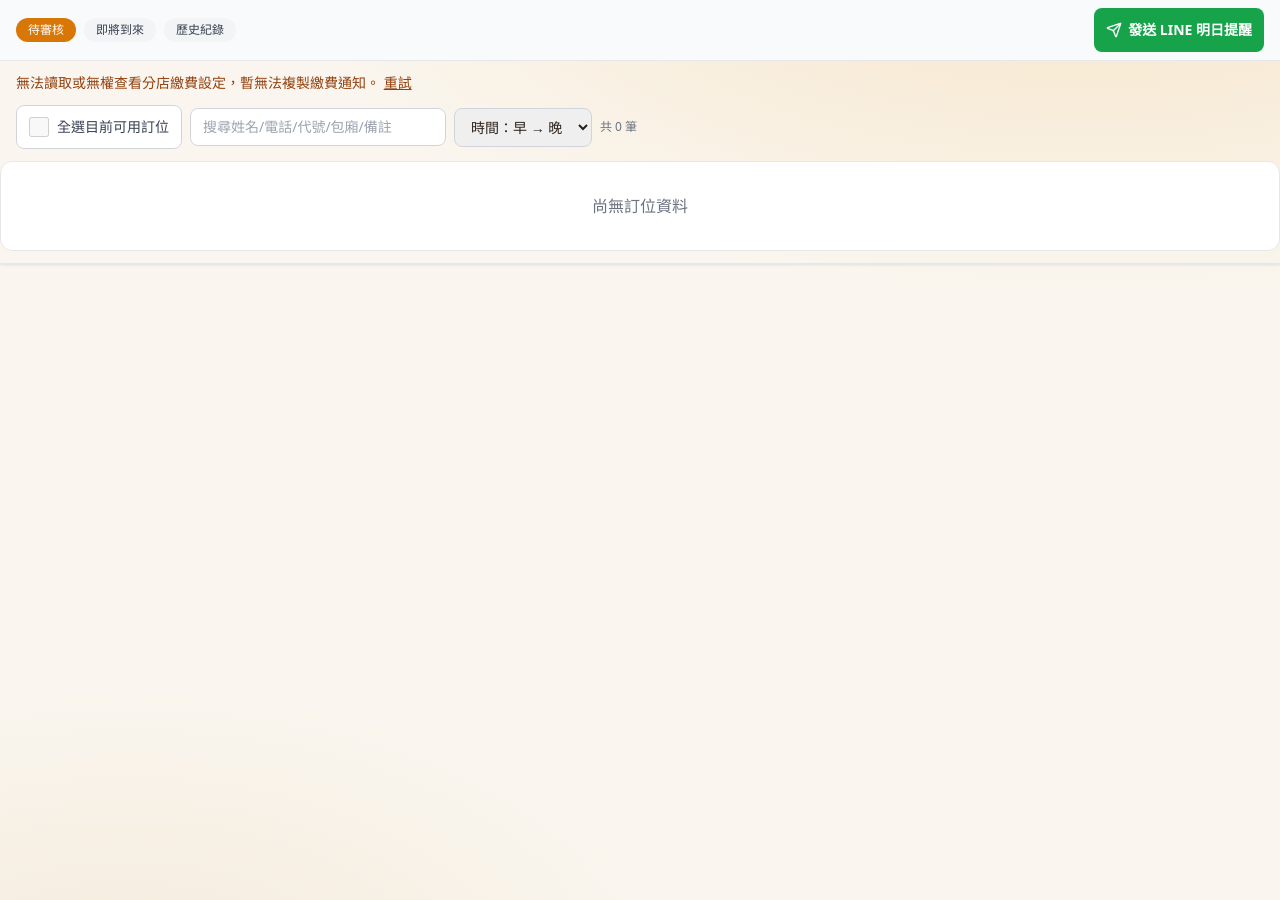
Test: ReservationList history restore (一鍵還原) › offers restore for cancelled and no_show bookings, not completed ones, and labels auto-cancellations
The image size is (1280, 900).
Click the button "歷史紀錄": (200,30) top-left (164, 18), bottom-right (236, 42)
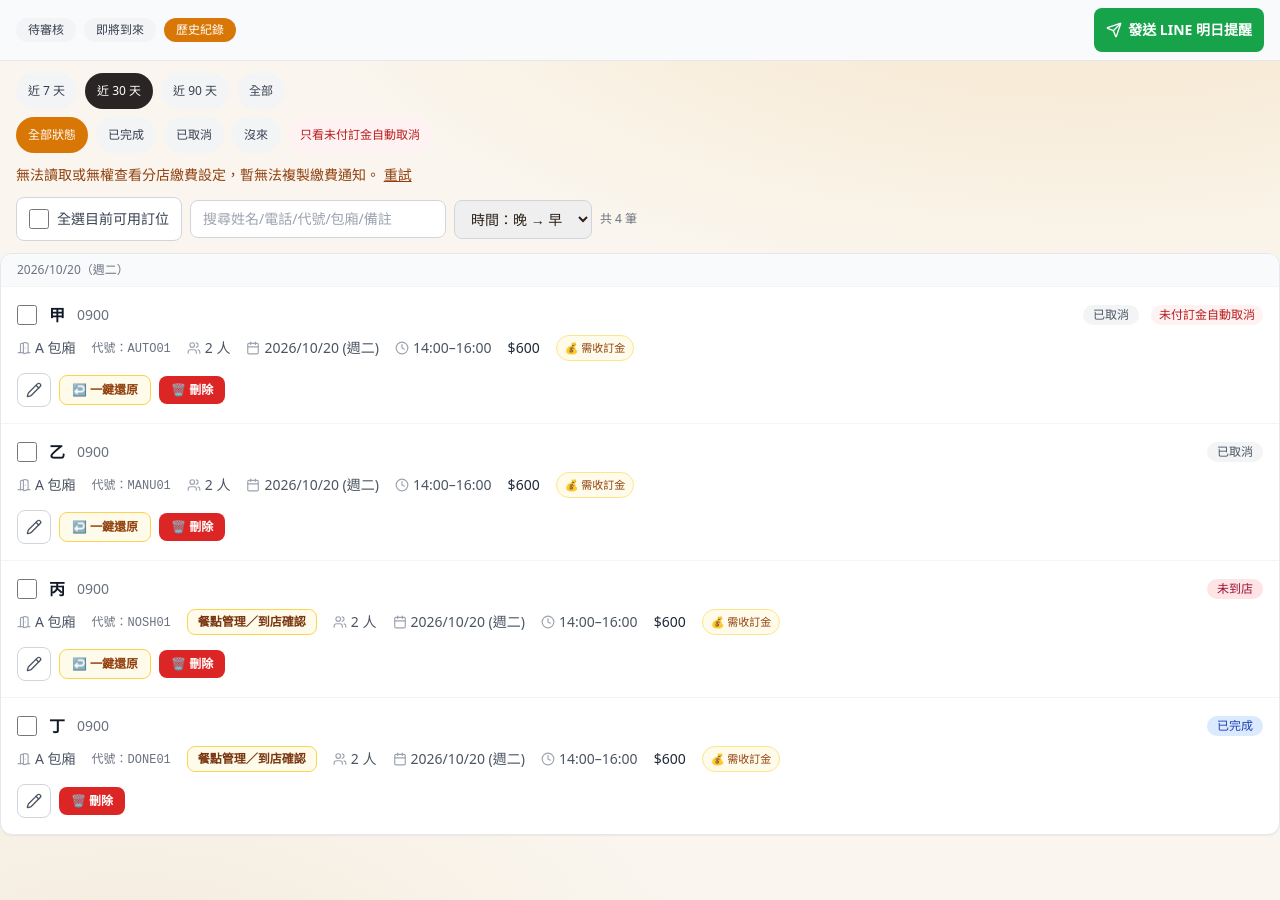
Now the number of buttons "↩️ 一鍵還原" is 3, box top-left (59, 375), bottom-right (151, 405); top-left (59, 512), bottom-right (151, 542); top-left (59, 649), bottom-right (151, 679)
Now the text "未付訂金自動取消" is shown once, box top-left (1151, 305), bottom-right (1263, 325)
